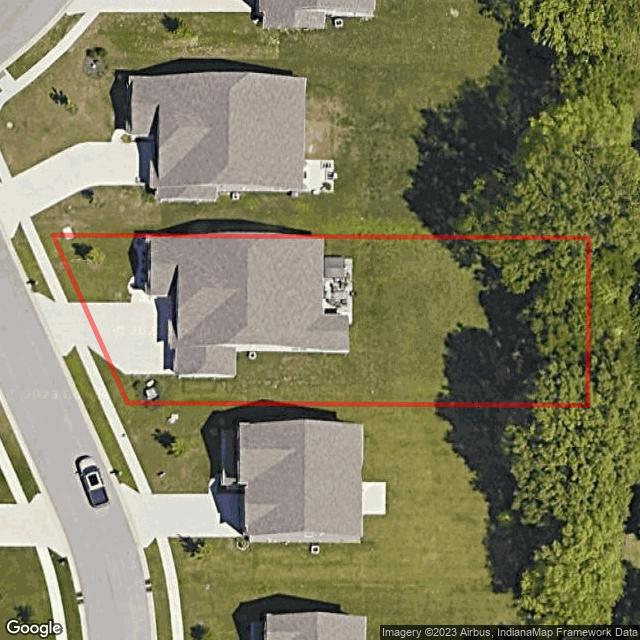Driveway: (86, 288, 176, 374)
Extra Driveway: (33, 292, 106, 360)
Extra Lawn: (12, 232, 56, 302), (38, 234, 81, 303), (87, 346, 127, 406), (62, 345, 100, 403)
Extra Sidewalk: (25, 233, 69, 304), (76, 346, 113, 404)
House: (149, 239, 349, 377)
Other: (324, 256, 353, 323), (142, 379, 159, 401)
Sidewalk: (128, 239, 150, 293)
